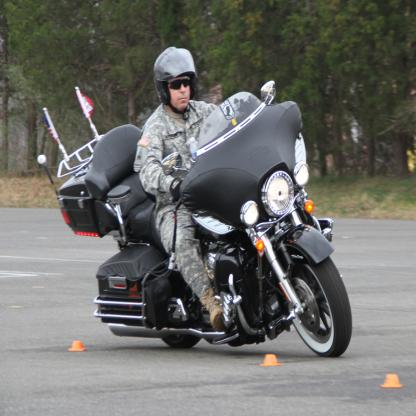Helmet: (153, 46, 199, 110)
